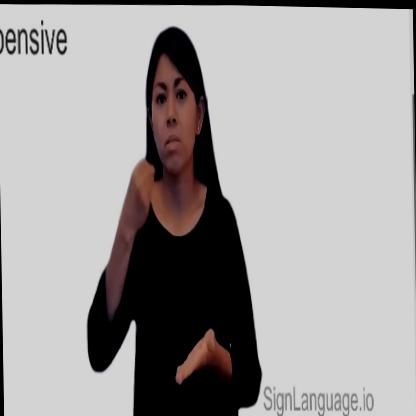Expensive: (76, 155, 222, 409)
